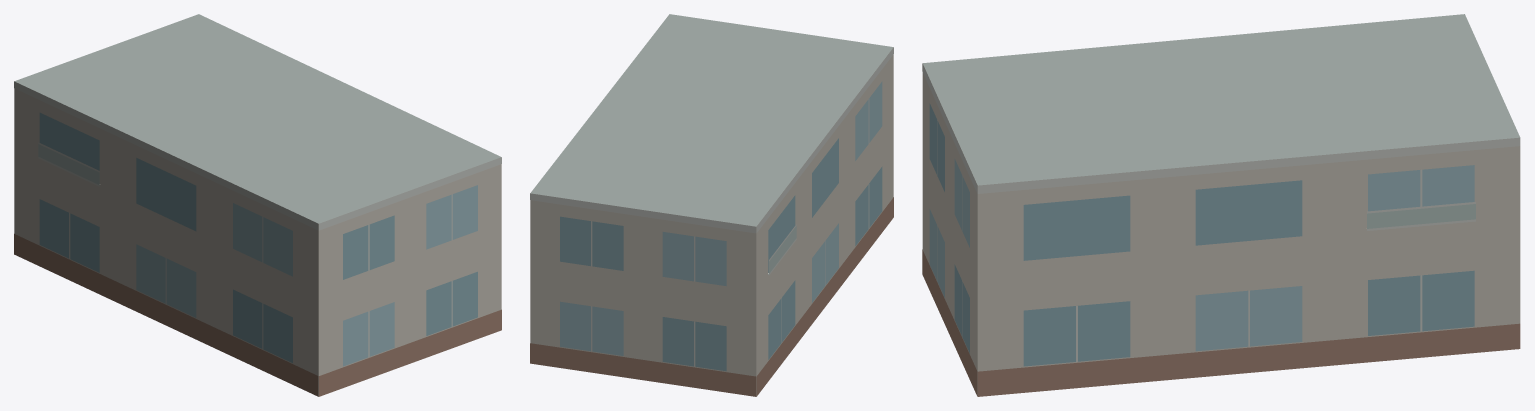
File: survey-upis-32773089.glb
3 views of the same model, side by side, from view 1: azimuth 30°, elevation 25°; view 2: azimuth 150°, elevation 25°; view 3: azimuth 270°, elevation 25° (orthographic). The views are drawn at different scales.
Parts seen in each view (by area): view 1: survey-upis-32773089.tmp; view 2: survey-upis-32773089.tmp; view 3: survey-upis-32773089.tmp.
Boxes of the visible parts, x1,y1,x2,y2 form: survey-upis-32773089.tmp: [14, 14, 501, 396]; survey-upis-32773089.tmp: [530, 14, 893, 396]; survey-upis-32773089.tmp: [922, 14, 1520, 396].
Size of the model in its own units: 10.63 by 6.1 by 15.65.
